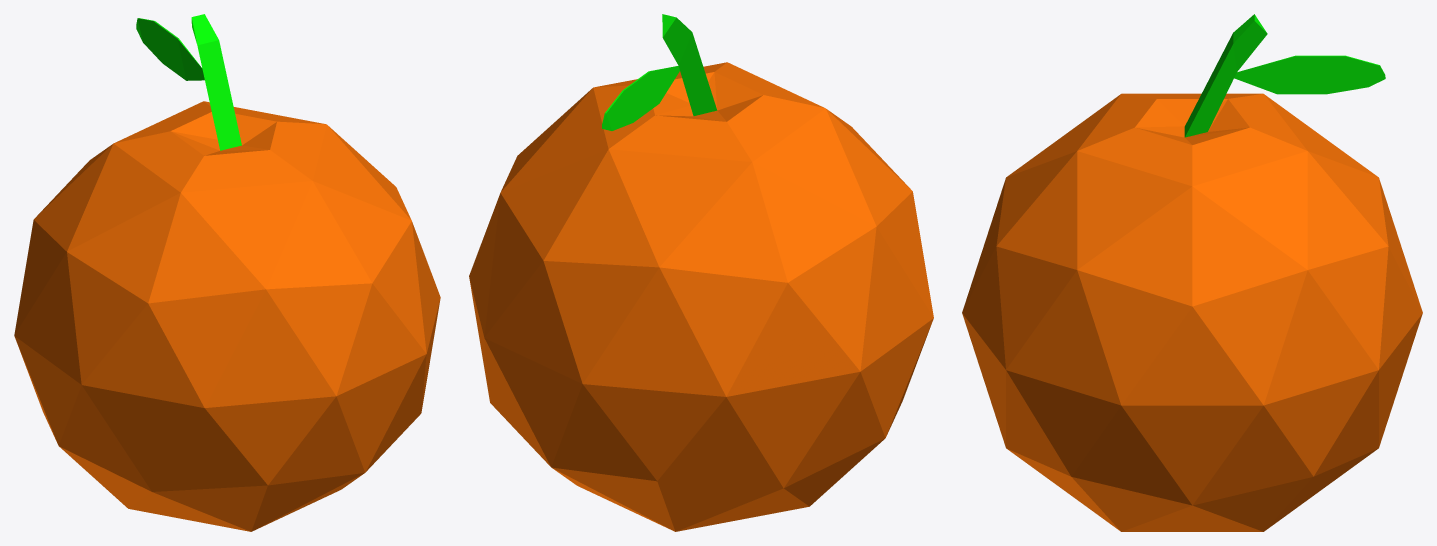
File: Orange.fbx
3 renders of one model, left to right at view 1: azimuth 30°, elevation 25°; view 2: azimuth 150°, elevation 25°; view 3: azimuth 270°, elevation 25°, orthographic. The views are drawn at different scales.
Parts seen in each view (by area): view 1: Orange; view 2: Orange; view 3: Orange.
Boxes of the visible parts, x1,y1,x2,y2 form: Orange: [14, 14, 440, 531]; Orange: [469, 14, 933, 531]; Orange: [962, 14, 1422, 531].
Size of the model in its own units: 114 by 140 by 120.
